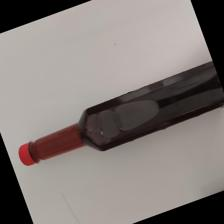Namngu: (16, 62, 224, 168)
